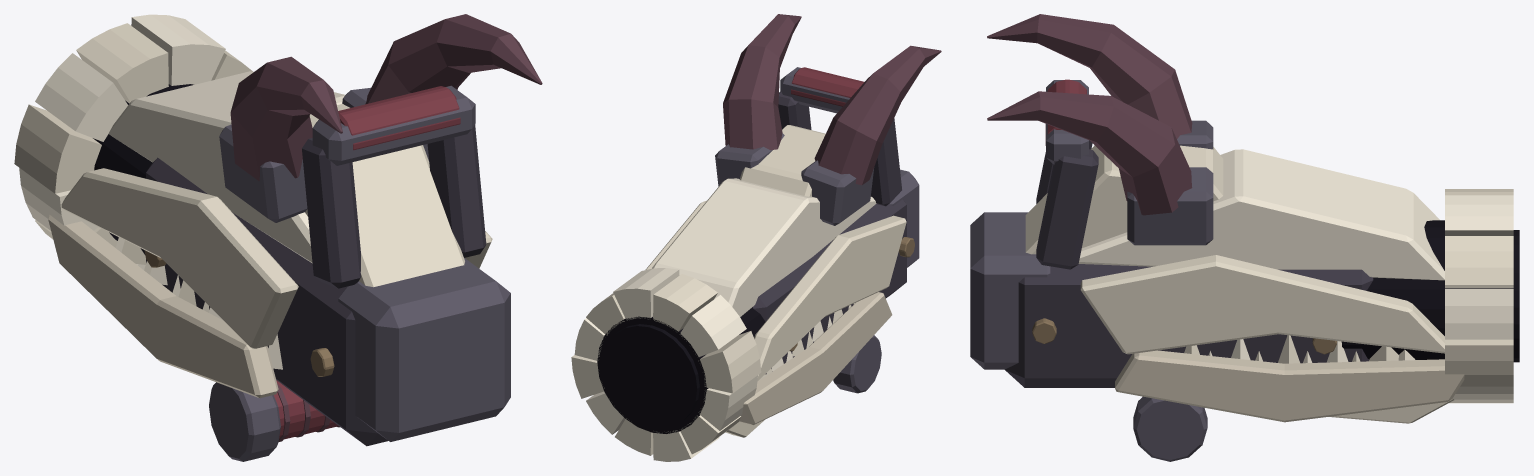
File: SM_Weapon_BoneDragon.glb
3 views of the same model, side by side, from view 1: azimuth 30°, elevation 25°; view 2: azimuth 150°, elevation 25°; view 3: azimuth 270°, elevation 25° (orthographic). The views are drawn at different scales.
Parts seen in each view (by area): view 1: Rear_Breech, Upper_Cheek_1, Lower_Jaw_1, Receiver_OctagonalCore, Upper_RearCrest, Upper_CranialPlate, Swept_Horn_1, Swept_Horn_-1, TopHandle_Post_1, TopHandle_Post_-1, Muzzle_BoneSegment_01, Muzzle_BoneSegment_02 (+11 smaller); view 2: Upper_CranialPlate, Upper_Cheek_1, Muzzle_DarkThroat, Swept_Horn_1, Lower_Jaw_1, Swept_Horn_-1, Upper_RearCrest, Receiver_OctagonalCore, Horn_Socket_1, Muzzle_InnerBarrel, Muzzle_BoneSegment_01, Muzzle_BoneSegment_02 (+17 smaller); view 3: Upper_CranialPlate, Upper_Cheek_-1, Lower_Jaw_-1, Receiver_OctagonalCore, Swept_Horn_-1, Swept_Horn_1, Rear_Breech, TopHandle_Post_-1, Upper_RearCrest, Horn_Socket_-1, LowerGrip_Boss_-1, Muzzle_BoneSegment_05 (+9 smaller).
Part boxes in pixels (x1,y1,x2,y2): Rear_Breech: [338, 258, 510, 441]; Upper_Cheek_1: [61, 168, 298, 348]; Lower_Jaw_1: [48, 215, 278, 398]; Receiver_OctagonalCore: [146, 157, 388, 446]; Upper_RearCrest: [305, 104, 464, 287]; Upper_CranialPlate: [108, 71, 345, 263]; Swept_Horn_1: [230, 56, 342, 180]; Swept_Horn_-1: [365, 14, 542, 104]; TopHandle_Post_1: [302, 138, 360, 288]; TopHandle_Post_-1: [427, 124, 486, 257]; Muzzle_BoneSegment_01: [14, 104, 101, 193]; Muzzle_BoneSegment_02: [35, 53, 127, 141]; Upper_CranialPlate: [652, 178, 876, 316]; Upper_Cheek_1: [754, 215, 906, 381]; Muzzle_DarkThroat: [601, 324, 699, 428]; Swept_Horn_1: [814, 45, 941, 185]; Lower_Jaw_1: [739, 292, 892, 425]; Swept_Horn_-1: [723, 14, 801, 150]; Upper_RearCrest: [739, 125, 825, 196]; Receiver_OctagonalCore: [753, 199, 906, 374]; Horn_Socket_1: [801, 160, 874, 225]; Muzzle_InnerBarrel: [597, 307, 765, 433]; Muzzle_BoneSegment_01: [698, 331, 761, 393]; Muzzle_BoneSegment_02: [679, 295, 746, 356]; Upper_CranialPlate: [1078, 149, 1444, 280]; Upper_Cheek_-1: [1080, 255, 1444, 354]; Lower_Jaw_-1: [1115, 350, 1464, 422]; Receiver_OctagonalCore: [1005, 264, 1373, 387]; Swept_Horn_-1: [987, 91, 1192, 215]; Swept_Horn_1: [987, 14, 1192, 138]; Rear_Breech: [970, 212, 1050, 369]; TopHandle_Post_-1: [1036, 149, 1098, 269]; Upper_RearCrest: [1025, 145, 1223, 254]; Horn_Socket_-1: [1127, 167, 1213, 245]; LowerGrip_Boss_-1: [1133, 396, 1207, 461]; Muzzle_BoneSegment_05: [1445, 236, 1513, 287].
Bounding box in the file's own units: 0.3919 × 0.7044 × 0.961.
